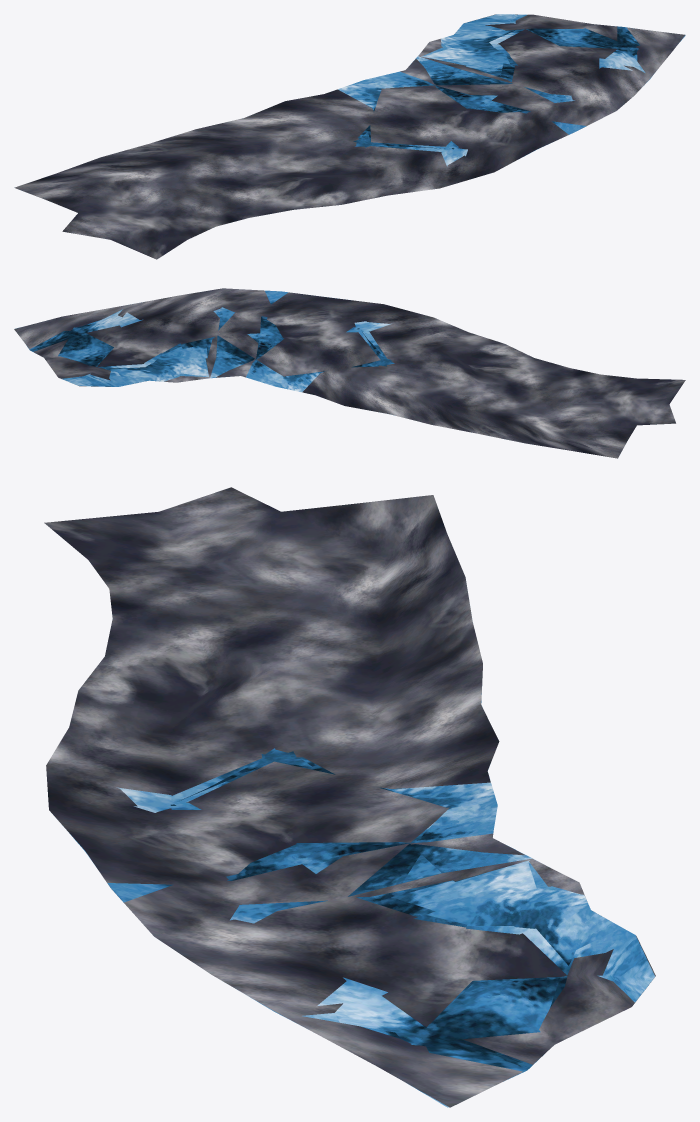
Rendered from MIRKWOOD_WATER.fbx.
3 views of the same model, one above another, from view 1: azimuth 30°, elevation 25°; view 2: azimuth 150°, elevation 25°; view 3: azimuth 270°, elevation 25° (orthographic). The views are drawn at different scales.
Parts seen in each view (by area): view 1: MIRKWOOD_WATER; view 2: MIRKWOOD_WATER; view 3: MIRKWOOD_WATER.
Boxes of the visible parts, x1,y1,x2,y2 form: MIRKWOOD_WATER: [14, 14, 685, 259]; MIRKWOOD_WATER: [14, 288, 685, 458]; MIRKWOOD_WATER: [44, 487, 655, 1107].
Size of the model in its own units: 446641 by 14275 by 194799.
2 materials, 2 textured.
